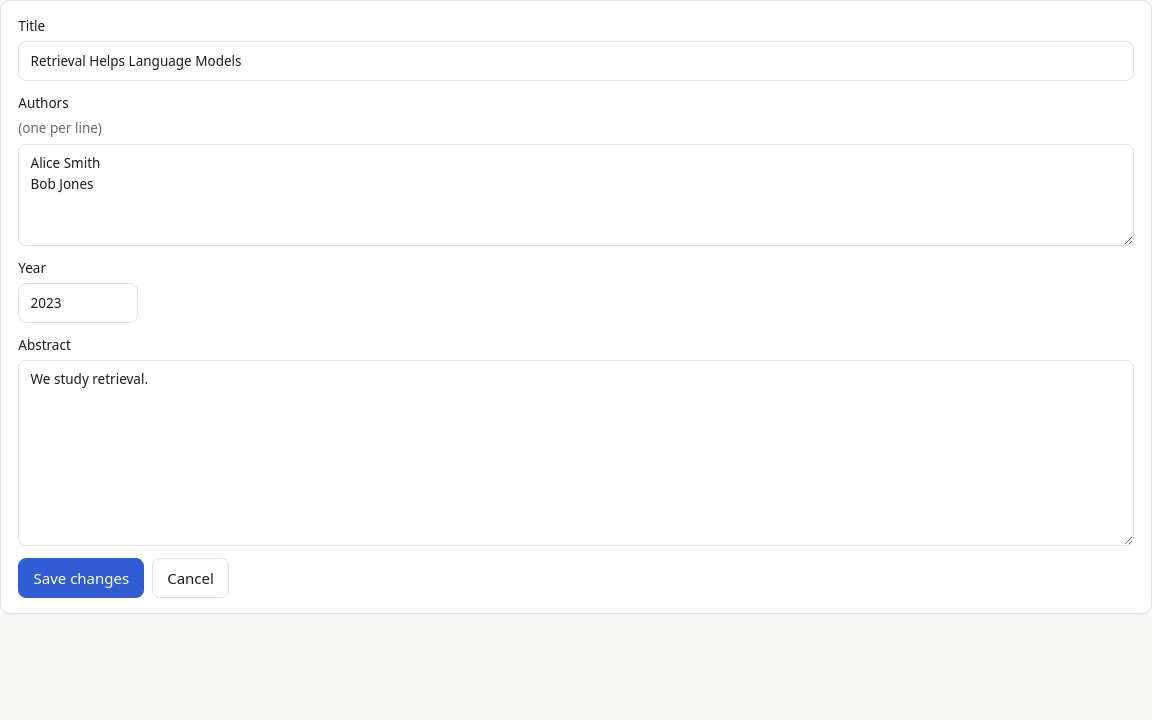
EditPaperForm › shows why the backend rejected the change
This screenshot has width=1152, height=720.
Click the button "Save changes" at (81, 578), box x1=18 y1=558 x2=144 y2=598
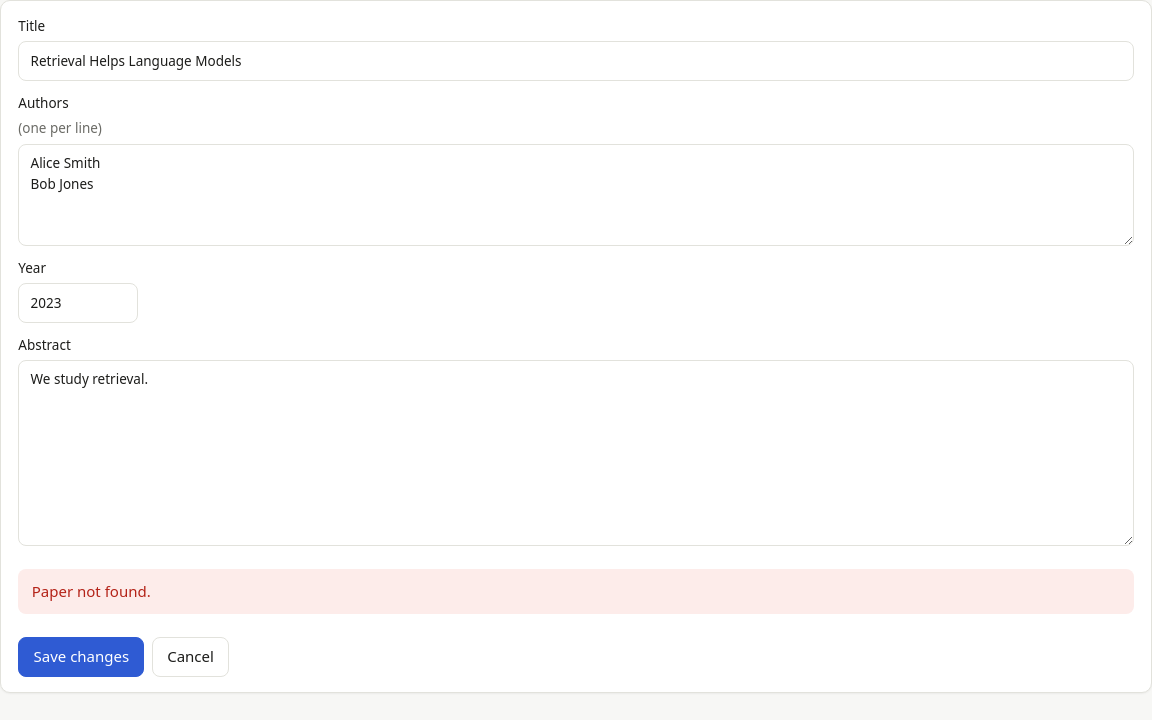
Expected: the button "Save changes" is enabled, x1=18 y1=637 x2=144 y2=677
Result: the text "Paper not found." is shown at x1=18 y1=569 x2=1134 y2=614
